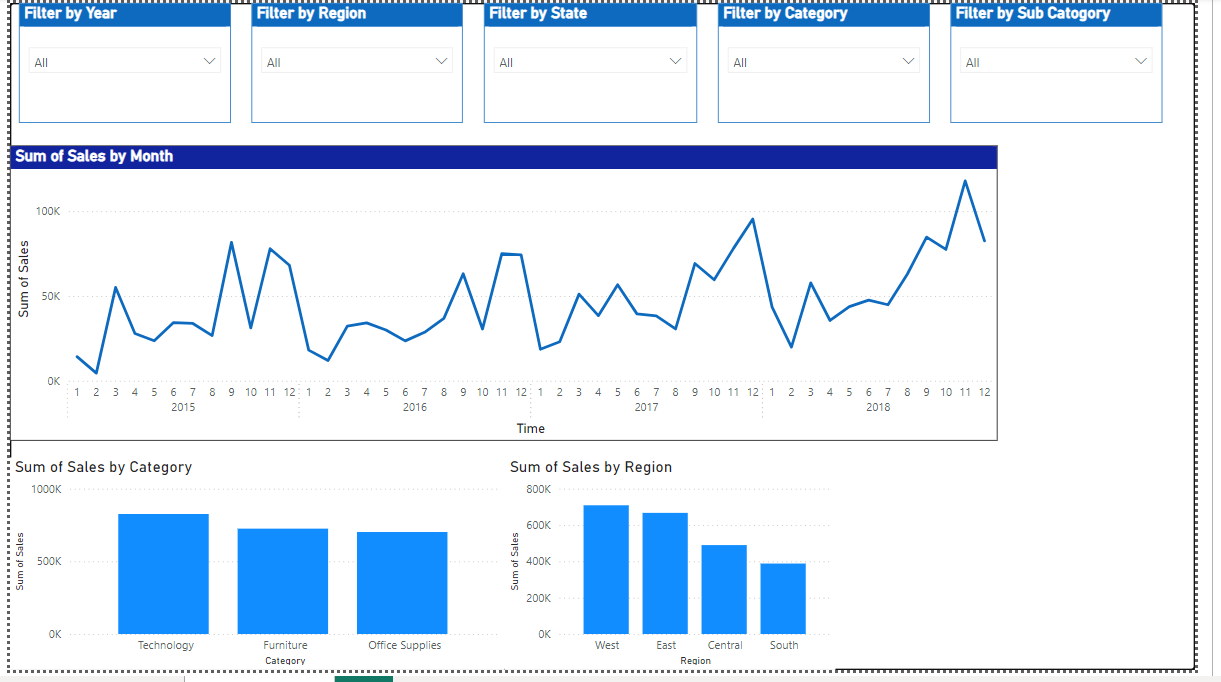

Layout of this report page (visuals, bound fields, positions):
{"tool":"powerbi","page":{"name":"Dashboard","canvas":[1280,720],"ordinal":8},"visuals":[{"type":"slicer","title":"Filter by Year","fields":{"Values":["Date.Year(年)"]},"box":[10.1,0,228.9,129.6],"z":0},{"type":"slicer","title":"Filter by State","fields":{"Values":["train_BI_0702.State"]},"box":[511.6,0,229.9,129.5],"z":1000},{"type":"slicer","title":"Filter by Region","fields":{"Values":["train_BI_0702.Region"]},"box":[261.1,0,228.3,129.5],"z":2000},{"type":"slicer","title":"Filter by Category","fields":{"Values":["train_BI_0702.Category"]},"box":[763.7,0,228.9,129.6],"z":3000},{"type":"slicer","title":"Filter by Sub Catogory","fields":{"Values":["train_BI_0702.Sub-Category"]},"box":[1014.7,0,228.9,129.6],"z":4000},{"type":"lineChart","title":"Sum of Sales by Month","fields":{"Category":["Date.Year(年)","Date.Month Number(月份數字)"],"Y":["Sum(train_BI_0702.Sales)"]},"box":[0,153.7,1066.3,318.9],"z":5000},{"type":"columnChart","fields":{"Category":["train_BI_0702.Category"],"Y":["Sum(train_BI_0702.Sales)"]},"box":[0,490.8,533.8,229.2],"z":5001},{"type":"columnChart","fields":{"Category":["train_BI_0702.Region"],"Y":["Sum(train_BI_0702.Sales)"]},"box":[533.8,490.8,356.9,229.2],"z":5002}]}

Visuals, with their boxes in screenshot pixels (x1, y1, x2, y2), scaled from the page's 1280x720 canvas onto the 1221x682 screenshot:
"Filter by Year" slicer: 10,0,228,123
"Filter by State" slicer: 488,0,707,123
"Filter by Region" slicer: 249,0,467,123
"Filter by Category" slicer: 728,0,947,123
"Filter by Sub Catogory" slicer: 968,0,1186,123
"Sum of Sales by Month" lineChart: 0,146,1017,448
columnChart - train_BI_0702.Category x Sum(train_BI_0702.Sales): 0,465,509,681
columnChart - train_BI_0702.Region x Sum(train_BI_0702.Sales): 509,465,850,681
